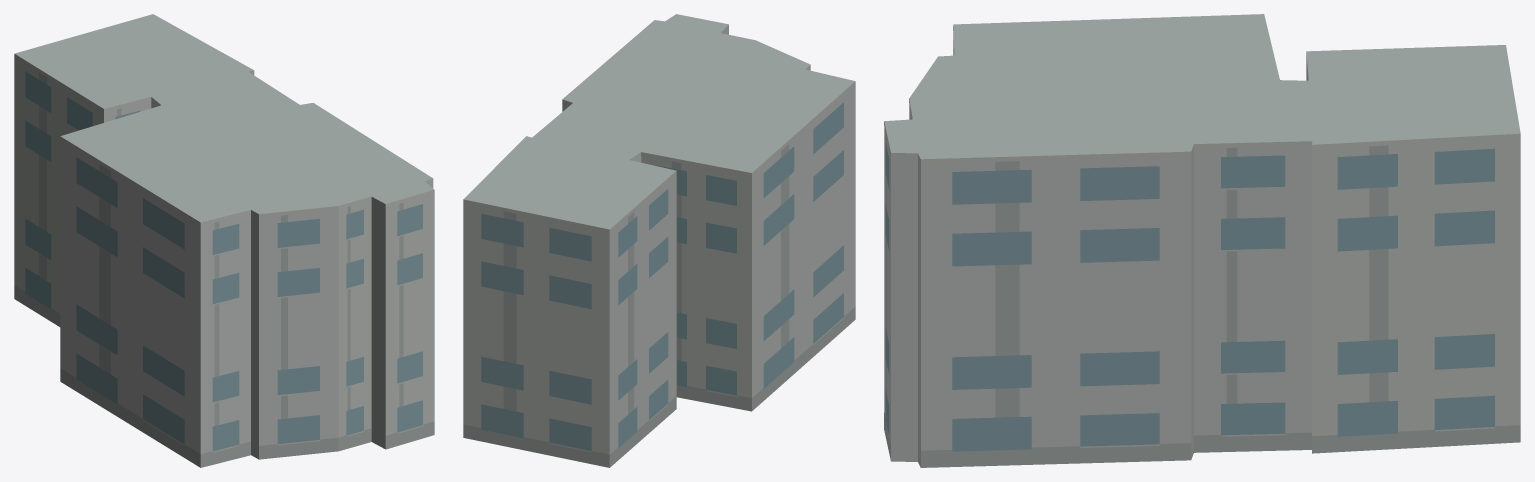
The model's file is survey-upis-32815807.glb.
3 renders of one model, left to right at view 1: azimuth 30°, elevation 25°; view 2: azimuth 150°, elevation 25°; view 3: azimuth 270°, elevation 25°, orthographic. The views are drawn at different scales.
Visible parts, largest first — view 1: survey-upis-32815807.tmp; view 2: survey-upis-32815807.tmp; view 3: survey-upis-32815807.tmp.
Part boxes in pixels (bbox=[...]): survey-upis-32815807.tmp: bbox=[14, 14, 434, 467]; survey-upis-32815807.tmp: bbox=[463, 14, 855, 467]; survey-upis-32815807.tmp: bbox=[884, 14, 1520, 467].
Size of the model in its own units: 16.36 by 16.2 by 30.28.
